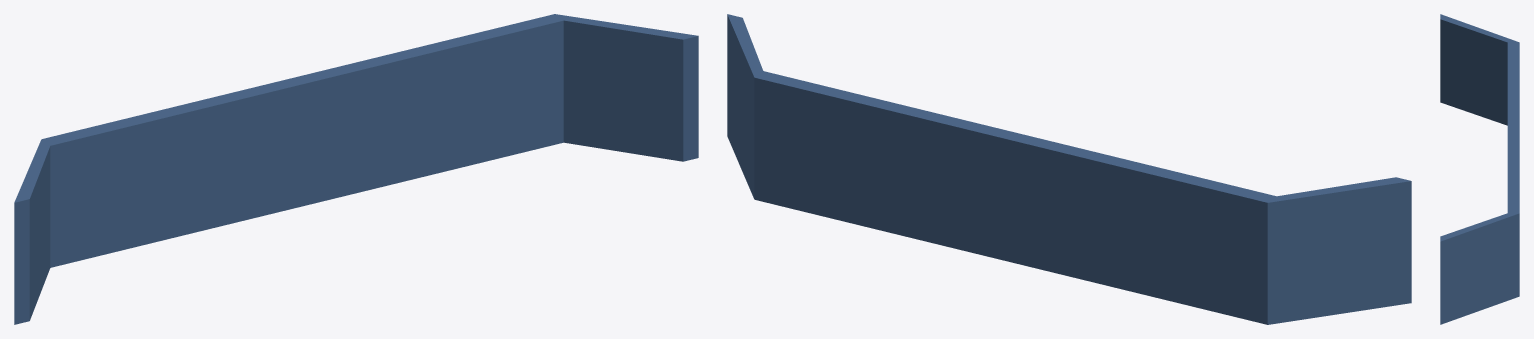
File: Structure_Wall_Backwall_fbx_v01.fbx
The picture shows the model from 3 angles, left to right: view 1: azimuth 30°, elevation 25°; view 2: azimuth 150°, elevation 25°; view 3: azimuth 270°, elevation 25°; orthographic projection. The views are drawn at different scales.
Visible parts, largest first — view 1: Wall_Back_BottomFloor; view 2: Wall_Back_BottomFloor; view 3: Wall_Back_BottomFloor.
Part boxes in pixels (x1,y1,x2,y2): Wall_Back_BottomFloor: (14,14,698,324); Wall_Back_BottomFloor: (727,14,1411,324); Wall_Back_BottomFloor: (1440,14,1519,324).
Bounding box in the file's own units: 4400 × 750 × 650.
